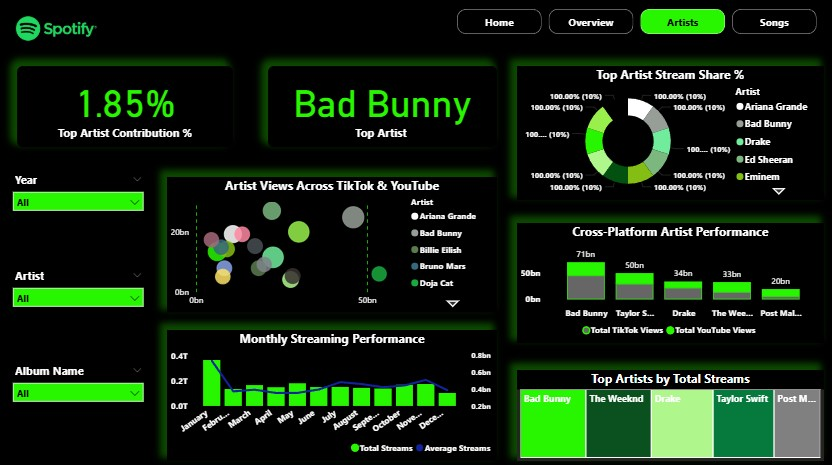

The page's visual inventory and layout, read from the dashboard file:
{"tool":"powerbi","page":{"name":"Artists ","canvas":[1280,720],"ordinal":2},"visuals":[{"type":"treemap","title":"Top Artists by Total Streams","fields":{"Group":["Most Streamed Spotify Songs 2024.Artist"],"Values":["Most Streamed Spotify Songs 2024.Total Streams"]},"box":[784.5,552.7,441.8,131],"z":0},{"type":"columnChart","title":"Cross-Platform Artist Performance","fields":{"Category":["Most Streamed Spotify Songs 2024.Artist"],"Y":["Most Streamed Spotify Songs 2024.Total TikTok Views","Most Streamed Spotify Songs 2024.Total YouTube Views"]},"box":[784.5,341,441.8,173],"z":1000},{"type":"lineClusteredColumnComboChart","title":"Monthly Streaming Performance","fields":{"Category":["Most Streamed Spotify Songs 2024.Release Date.Variation.Date Hierarchy.Month"],"Y":["Most Streamed Spotify Songs 2024.Total Streams"],"Y2":["Most Streamed Spotify Songs 2024.Average Streams"]},"box":[280.5,495.5,475.4,188.1],"z":2000},{"type":"image","box":[11.7,18.3,220,85],"z":3000},{"type":"pageNavigator","box":[698.3,33.3,521.7,36.7],"z":4000},{"type":"slicer","fields":{"Values":["Most Streamed Spotify Songs 2024.Artist"]},"box":[48.7,401.5,208.3,79],"z":5000},{"type":"donutChart","title":"Top Artist Stream Share %","fields":{"Category":["Most Streamed Spotify Songs 2024.Artist"],"Y":["Most Streamed Spotify Songs 2024.Top Artist Streams %"]},"box":[784.5,115.9,441.8,193.2],"z":6000},{"type":"scatterChart","title":"Artist Views Across TikTok & YouTube","fields":{"X":["Most Streamed Spotify Songs 2024.Total TikTok Views"],"Y":["Most Streamed Spotify Songs 2024.Total YouTube Views"],"Series":["Most Streamed Spotify Songs 2024.Artist"],"Size":["Most Streamed Spotify Songs 2024.Total Streams"]},"box":[280.5,275.5,475.4,194.9],"z":7000},{"type":"card","fields":{"Values":["Min(Most Streamed Spotify Songs 2024.Artist)"]},"box":[426.2,115.2,329.8,116.6],"z":8000},{"type":"slicer","fields":{"Values":["Most Streamed Spotify Songs 2024.Release Date.Variation.Date Hierarchy.Year"]},"box":[48.7,263.7,208.3,77.3],"z":9000},{"type":"slicer","fields":{"Values":["Most Streamed Spotify Songs 2024.Album Name"]},"box":[48.7,539.2,208.3,75.6],"z":10000},{"type":"card","fields":{"Values":["Most Streamed Spotify Songs 2024.Top Artist Streams %"]},"box":[64.8,115.2,311,116.6],"z":11000}]}

Visuals, with their boxes in screenshot pixels (x1, y1, x2, y2), scaled from the page's 1280x720 canvas onto the 832x465 screenshot:
"Top Artists by Total Streams" treemap: left=510, top=357, right=797, bottom=442
"Cross-Platform Artist Performance" columnChart: left=510, top=220, right=797, bottom=332
"Monthly Streaming Performance" lineClusteredColumnComboChart: left=182, top=320, right=491, bottom=441
image: left=8, top=12, right=151, bottom=67
pageNavigator: left=454, top=22, right=793, bottom=45
slicer - Most Streamed Spotify Songs 2024.Artist: left=32, top=259, right=167, bottom=310
"Top Artist Stream Share %" donutChart: left=510, top=75, right=797, bottom=200
"Artist Views Across TikTok & YouTube" scatterChart: left=182, top=178, right=491, bottom=304
card - Min(Most Streamed Spotify Songs 2024.Artist): left=277, top=74, right=491, bottom=150
slicer - Most Streamed Spotify Songs 2024.Release Date.Variation.Date Hierarchy.Year: left=32, top=170, right=167, bottom=220
slicer - Most Streamed Spotify Songs 2024.Album Name: left=32, top=348, right=167, bottom=397
card - Most Streamed Spotify Songs 2024.Top Artist Streams %: left=42, top=74, right=244, bottom=150
